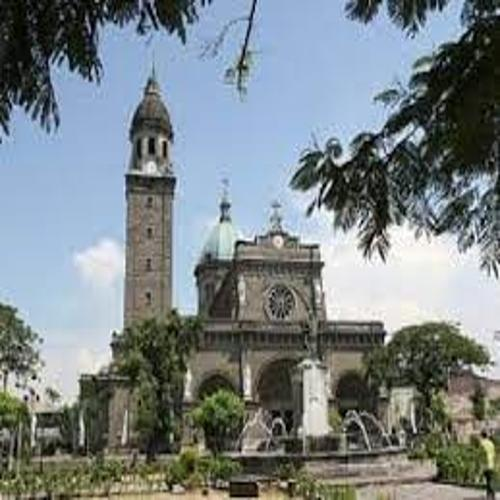Manila Cathedral Church: (90, 49, 395, 452)
